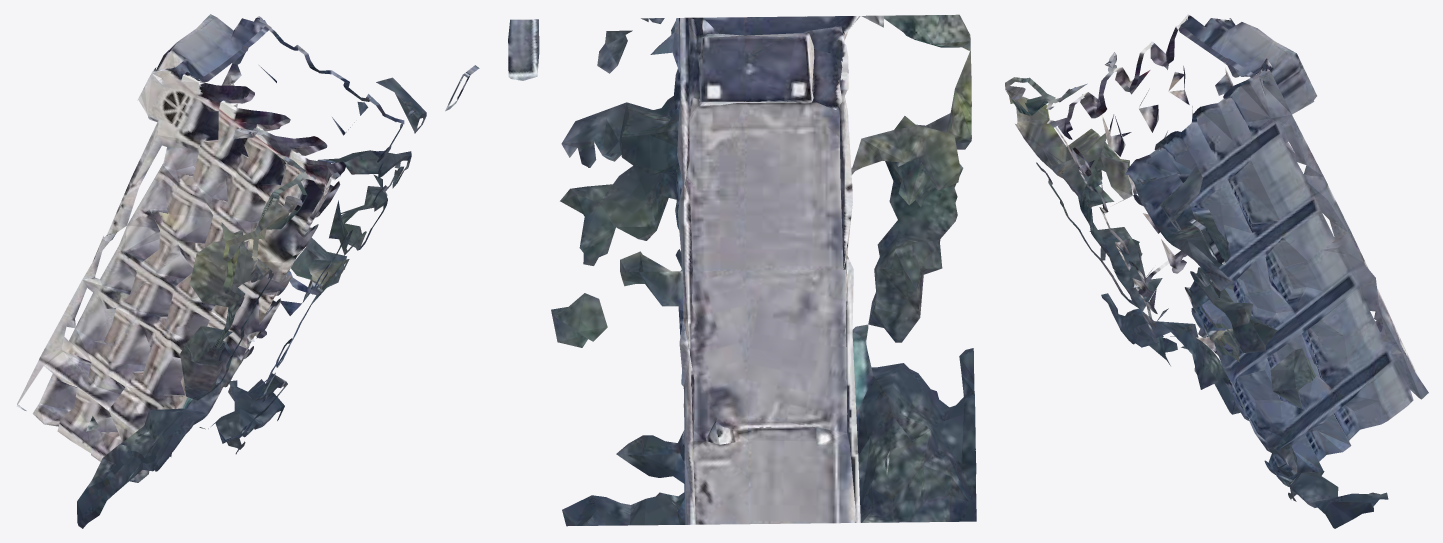
3 renders of one model, left to right at view 1: azimuth 30°, elevation 25°; view 2: azimuth 150°, elevation 25°; view 3: azimuth 270°, elevation 25°, orthographic. The views are drawn at different scales.
Size of the model in its own units: 39.73 by 41.62 by 36.37.
Materials: 1 (1 with a texture image).
